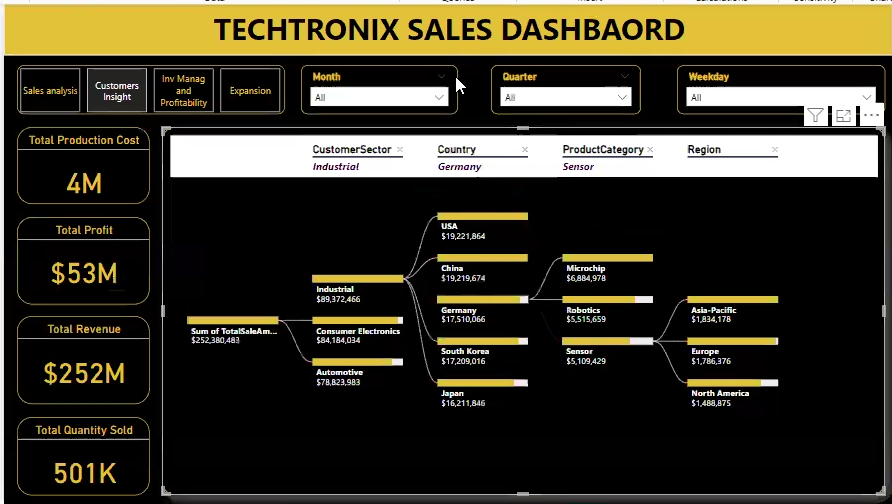

Layout of this report page (visuals, bound fields, positions):
{"tool":"powerbi","page":{"name":"Customer Insight","canvas":[1280,720],"ordinal":1},"visuals":[{"type":"cardVisual","fields":{"Data":["Measures (2).Total Qty Sold"]},"box":[10.6,152.9,213.5,133.3],"z":0},{"type":"cardVisual","fields":{"Data":["Measures (2).Total Profit"]},"box":[10.6,581.5,213.5,137.8],"z":1000},{"type":"cardVisual","fields":{"Data":["Measures (2).Product Cost"]},"box":[10.6,437.6,213.5,133.3],"z":2000},{"type":"cardVisual","fields":{"Data":["Measures (2).Total Revenue"]},"box":[10.6,293.8,213.5,133.3],"z":3000},{"type":"textbox","box":[0,0,1279.5,75.7],"z":4000},{"type":"slicer","fields":{"Values":["CalendarDim.Month"]},"box":[492.1,68.1,258.9,84.8],"z":5000},{"type":"pageNavigator","box":[10.6,68.1,466.4,84.8],"z":6000},{"type":"decompositionTreeVisual","fields":{"Analyze":["Measures (2).Total Revenue"],"ExplainBy":["CustomerDim.CustomerSector","LocationDim.Country","ProductDim.ProductCategory","LocationDim.Region"]},"box":[243.8,152.9,1035.7,566.3],"z":7000},{"type":"slicer","fields":{"Values":["CalendarDim.Quarter"]},"box":[761.6,68.1,266.5,80.3],"z":8000},{"type":"slicer","fields":{"Values":["CalendarDim.Weekday"]},"box":[1038.7,68.1,240.8,80.3],"z":9000}]}

Visuals, with their boxes on the page's 1280x720 design canvas (x1, y1, x2, y2). These are canvas units, not pixel positions in the 892x504 screenshot, which may show the page scaled, cropped or inside an application window:
cardVisual - Measures (2).Total Qty Sold: bbox=[11, 153, 224, 286]
cardVisual - Measures (2).Total Profit: bbox=[11, 582, 224, 719]
cardVisual - Measures (2).Product Cost: bbox=[11, 438, 224, 571]
cardVisual - Measures (2).Total Revenue: bbox=[11, 294, 224, 427]
textbox: bbox=[0, 0, 1280, 76]
slicer - CalendarDim.Month: bbox=[492, 68, 751, 153]
pageNavigator: bbox=[11, 68, 477, 153]
decompositionTreeVisual - Measures (2).Total Revenue x CustomerDim.CustomerSector: bbox=[244, 153, 1280, 719]
slicer - CalendarDim.Quarter: bbox=[762, 68, 1028, 148]
slicer - CalendarDim.Weekday: bbox=[1039, 68, 1280, 148]
